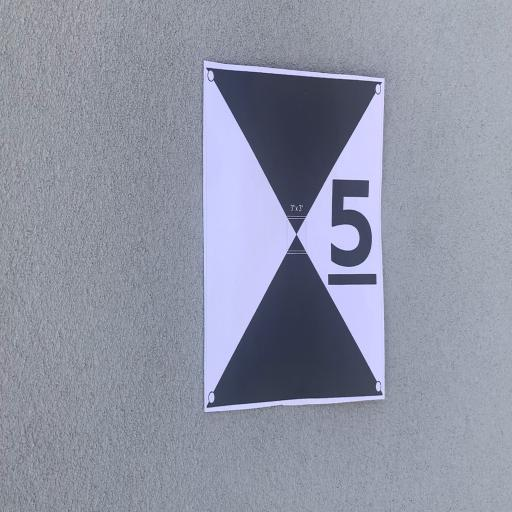target5: (204, 62, 385, 400)
